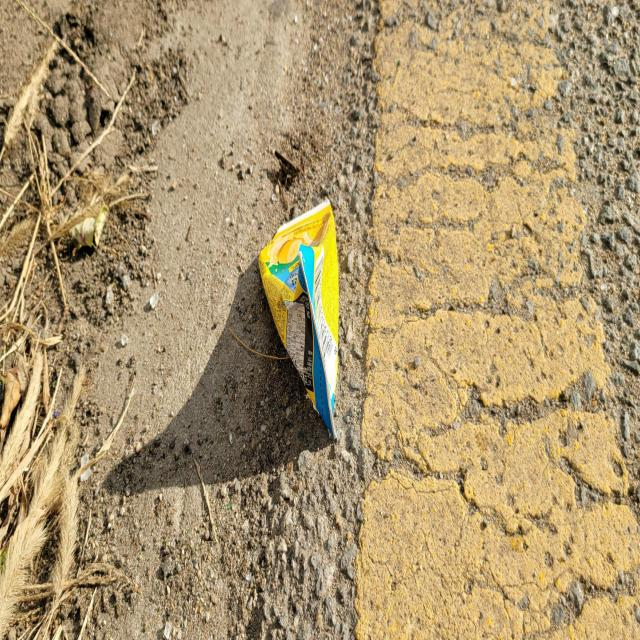paperpack: (259, 198, 339, 436)
